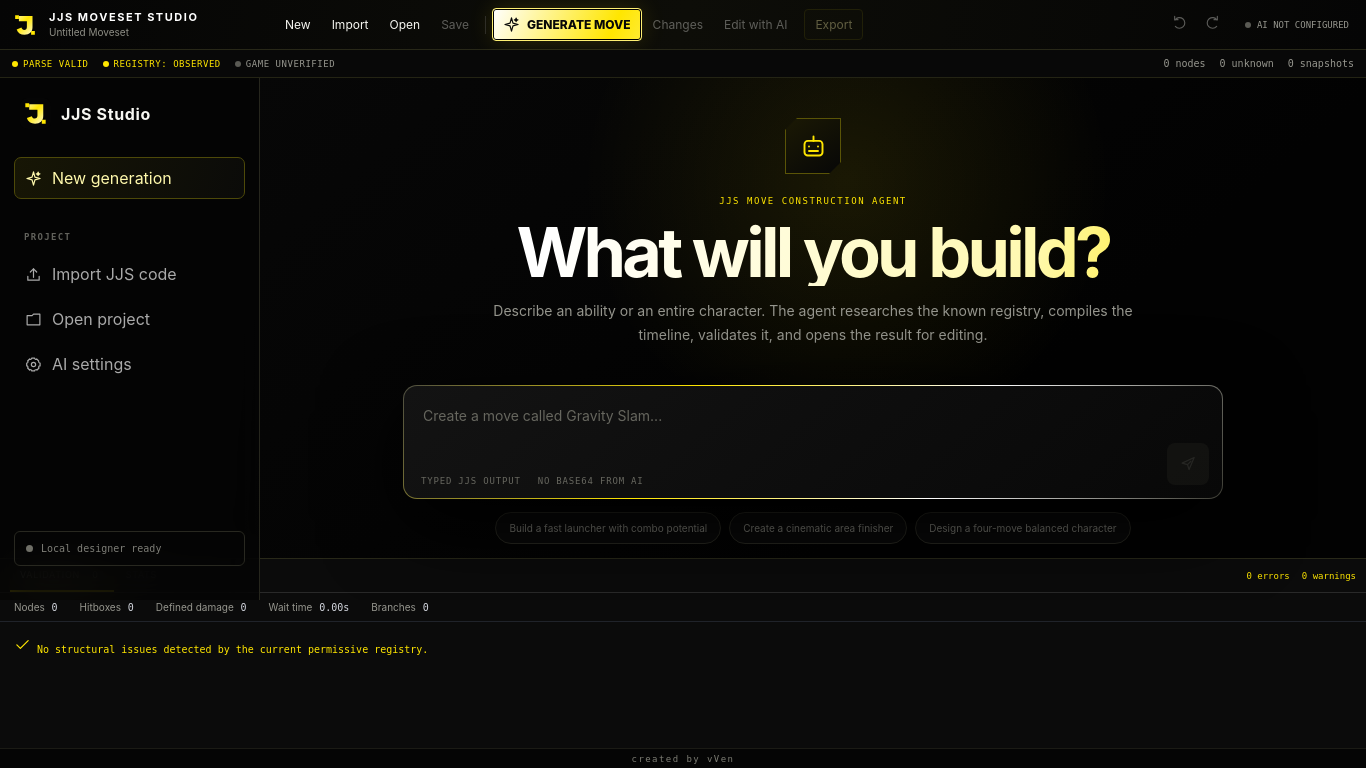
Test: Moveset Studio import workflow › routes character concepts to the character generator
The width and height of the screenshot is (1366, 768).
Click the button "Design a four-move balanced character": x=1023, y=528 [915,512,1131,544]
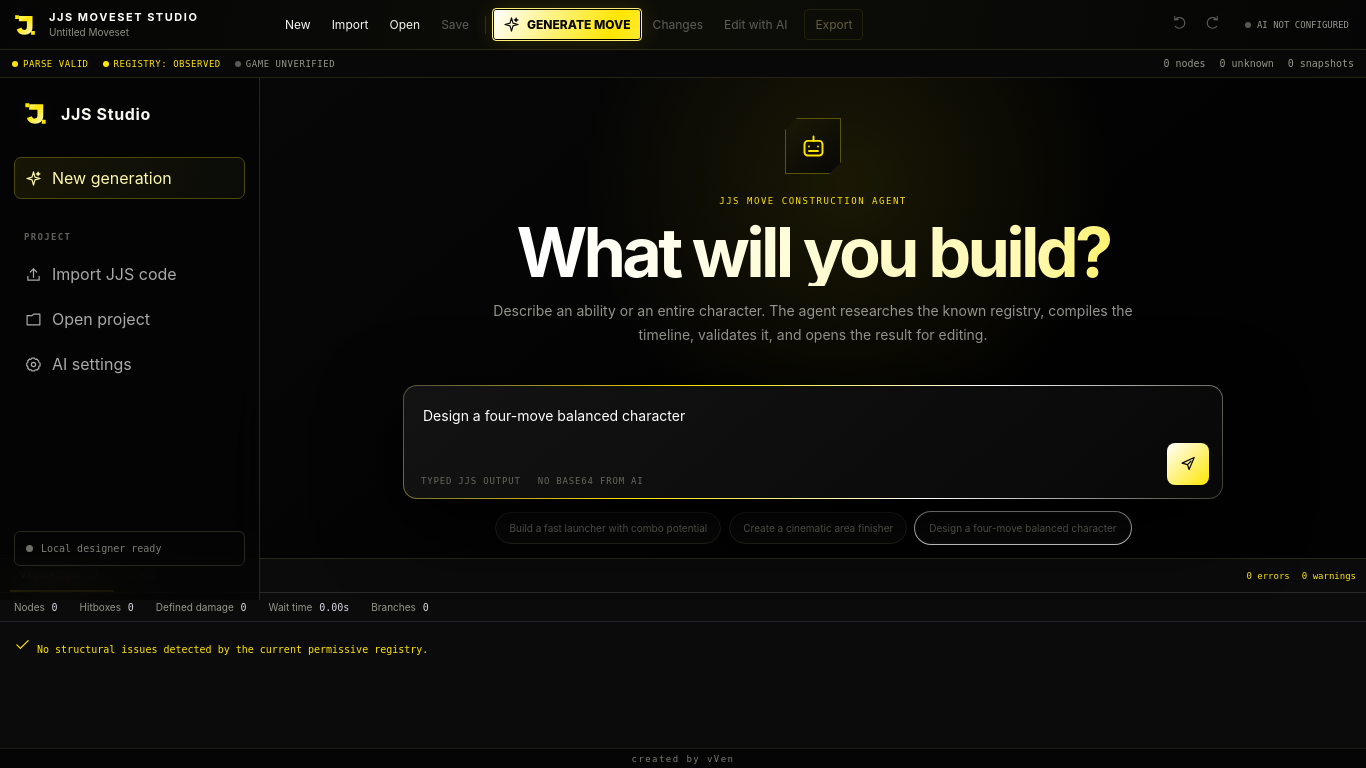
Click the button named "send generation prompt": x=1188, y=464 [1167,442,1209,484]
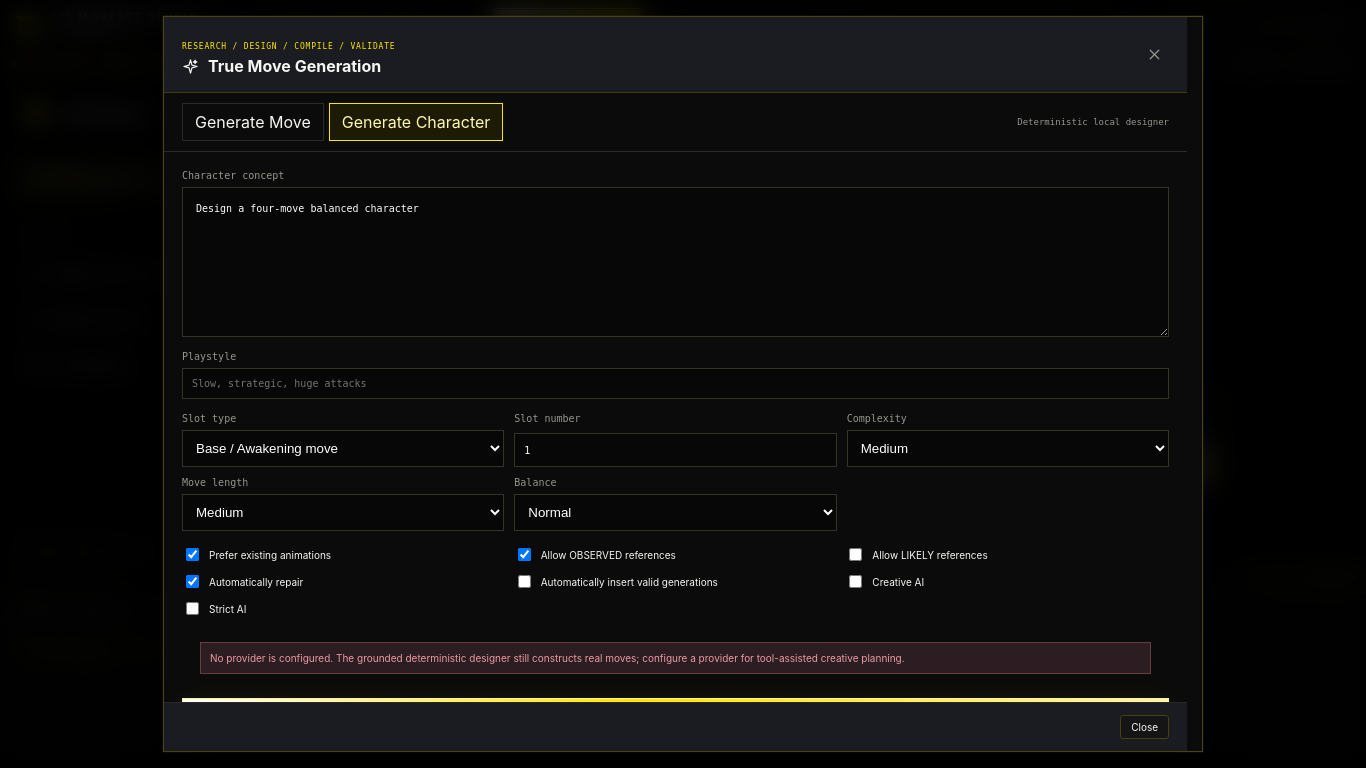
Check: the text box labelled "Character concept" holds "Design a four-move balanced character", box [182,187,1169,337]
